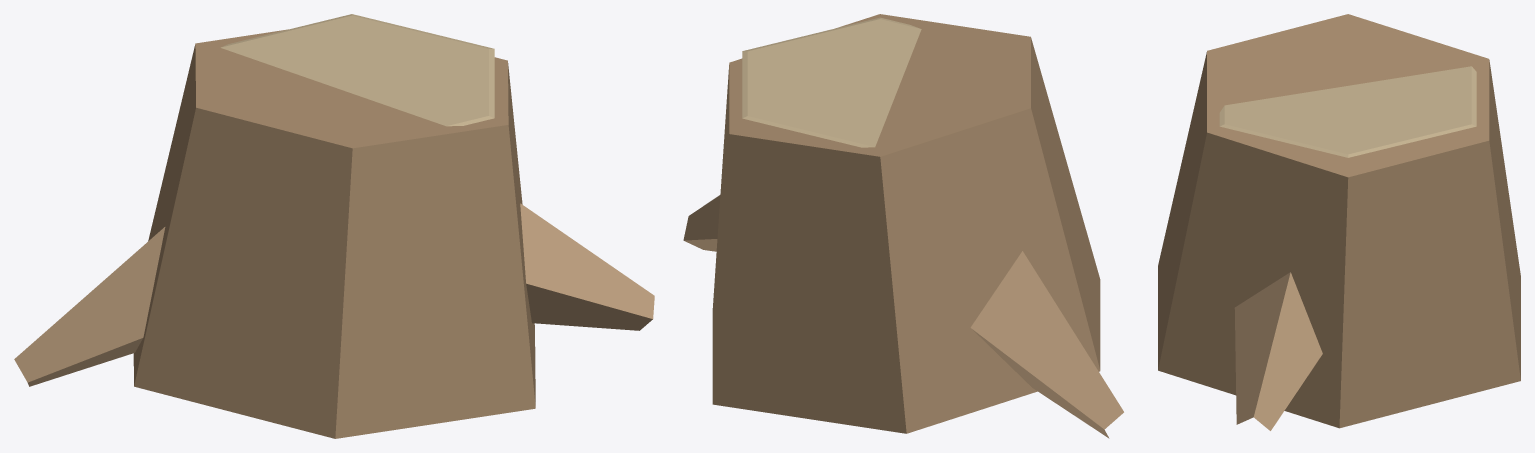
3 views of the same model, side by side, from view 1: azimuth 30°, elevation 25°; view 2: azimuth 150°, elevation 25°; view 3: azimuth 270°, elevation 25° (orthographic). The views are drawn at different scales.
Visible parts, largest first — view 1: Body; view 2: Body; view 3: Body.
Part boxes in pixels (x1,y1,x2,y2): Body: [14, 14, 654, 438]; Body: [683, 14, 1123, 438]; Body: [1158, 14, 1520, 430].
Size of the model in its own units: 1.95 by 1.01 by 1.25.
